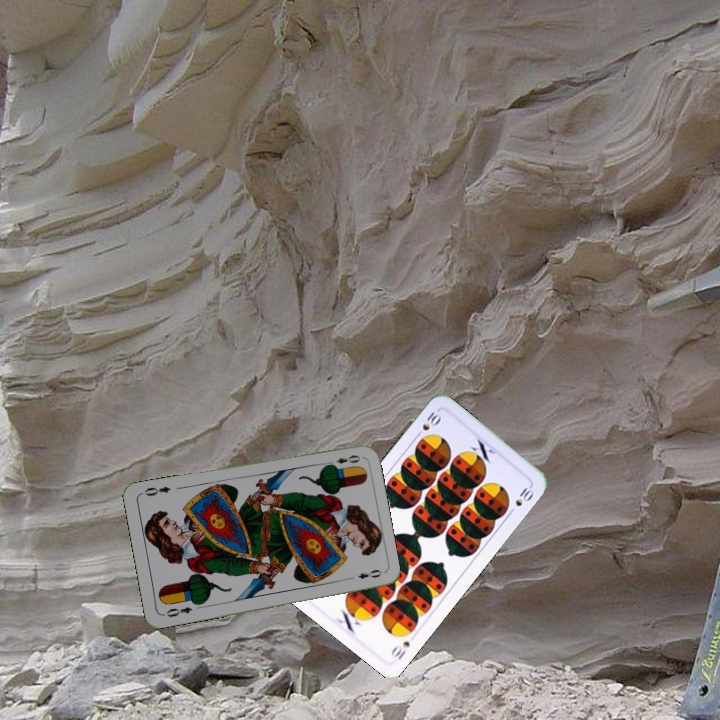EO: (323, 451, 363, 469), (162, 603, 195, 620)
S10: (411, 406, 445, 443), (387, 637, 412, 662)
